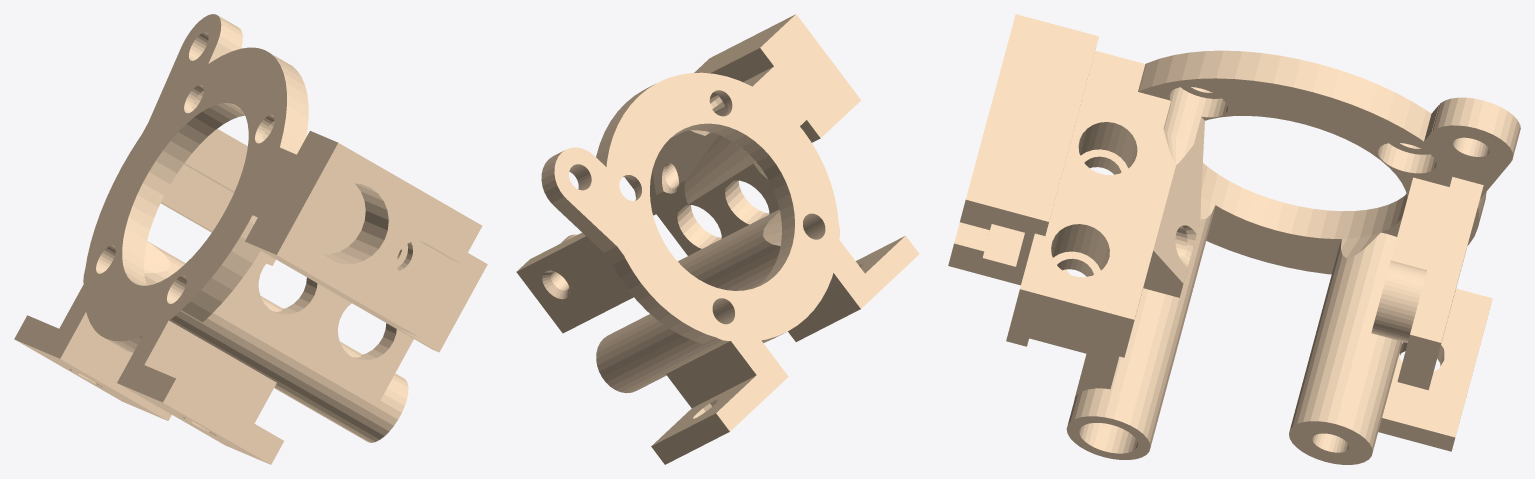
Rendered from gear1_2.dae.
3 views of the same model, side by side, from view 1: azimuth 30°, elevation 25°; view 2: azimuth 150°, elevation 25°; view 3: azimuth 270°, elevation 25° (orthographic). The views are drawn at different scales.
Visible parts, largest first — view 1: gear1_019; view 2: gear1_019; view 3: gear1_019.
Boxes of the visible parts, x1,y1,x2,y2 form: gear1_019: [14, 14, 487, 464]; gear1_019: [516, 14, 919, 464]; gear1_019: [948, 14, 1520, 464].
Size of the model in its own units: 0.0679 by 0.089 by 0.0781.
